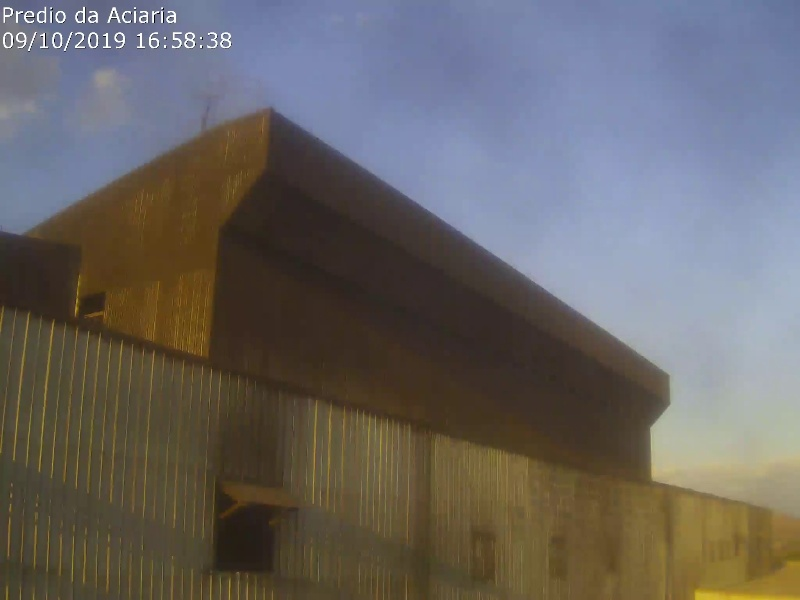bom: (293, 55, 760, 441)
ruim: (13, 21, 273, 117)
